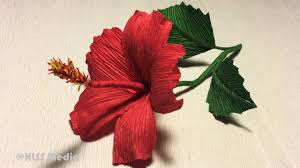hybiscus: (46, 11, 187, 166)
